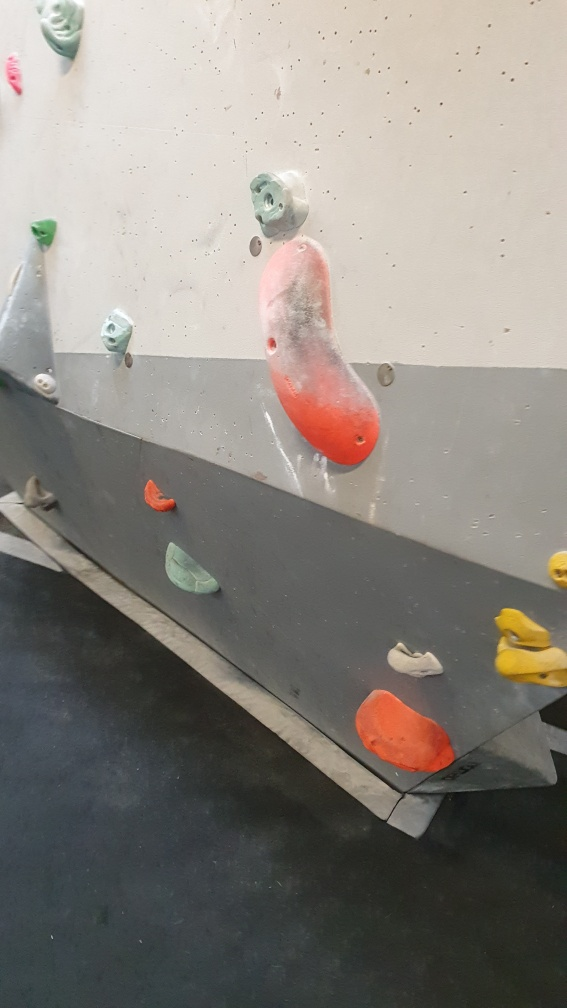Pinch: (260, 238, 385, 473)
